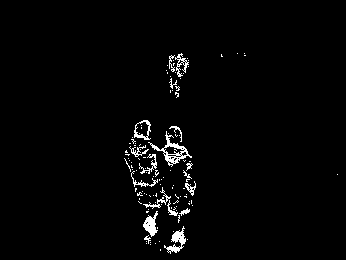person: (124, 118, 165, 237), (161, 125, 194, 252), (167, 49, 188, 98)
